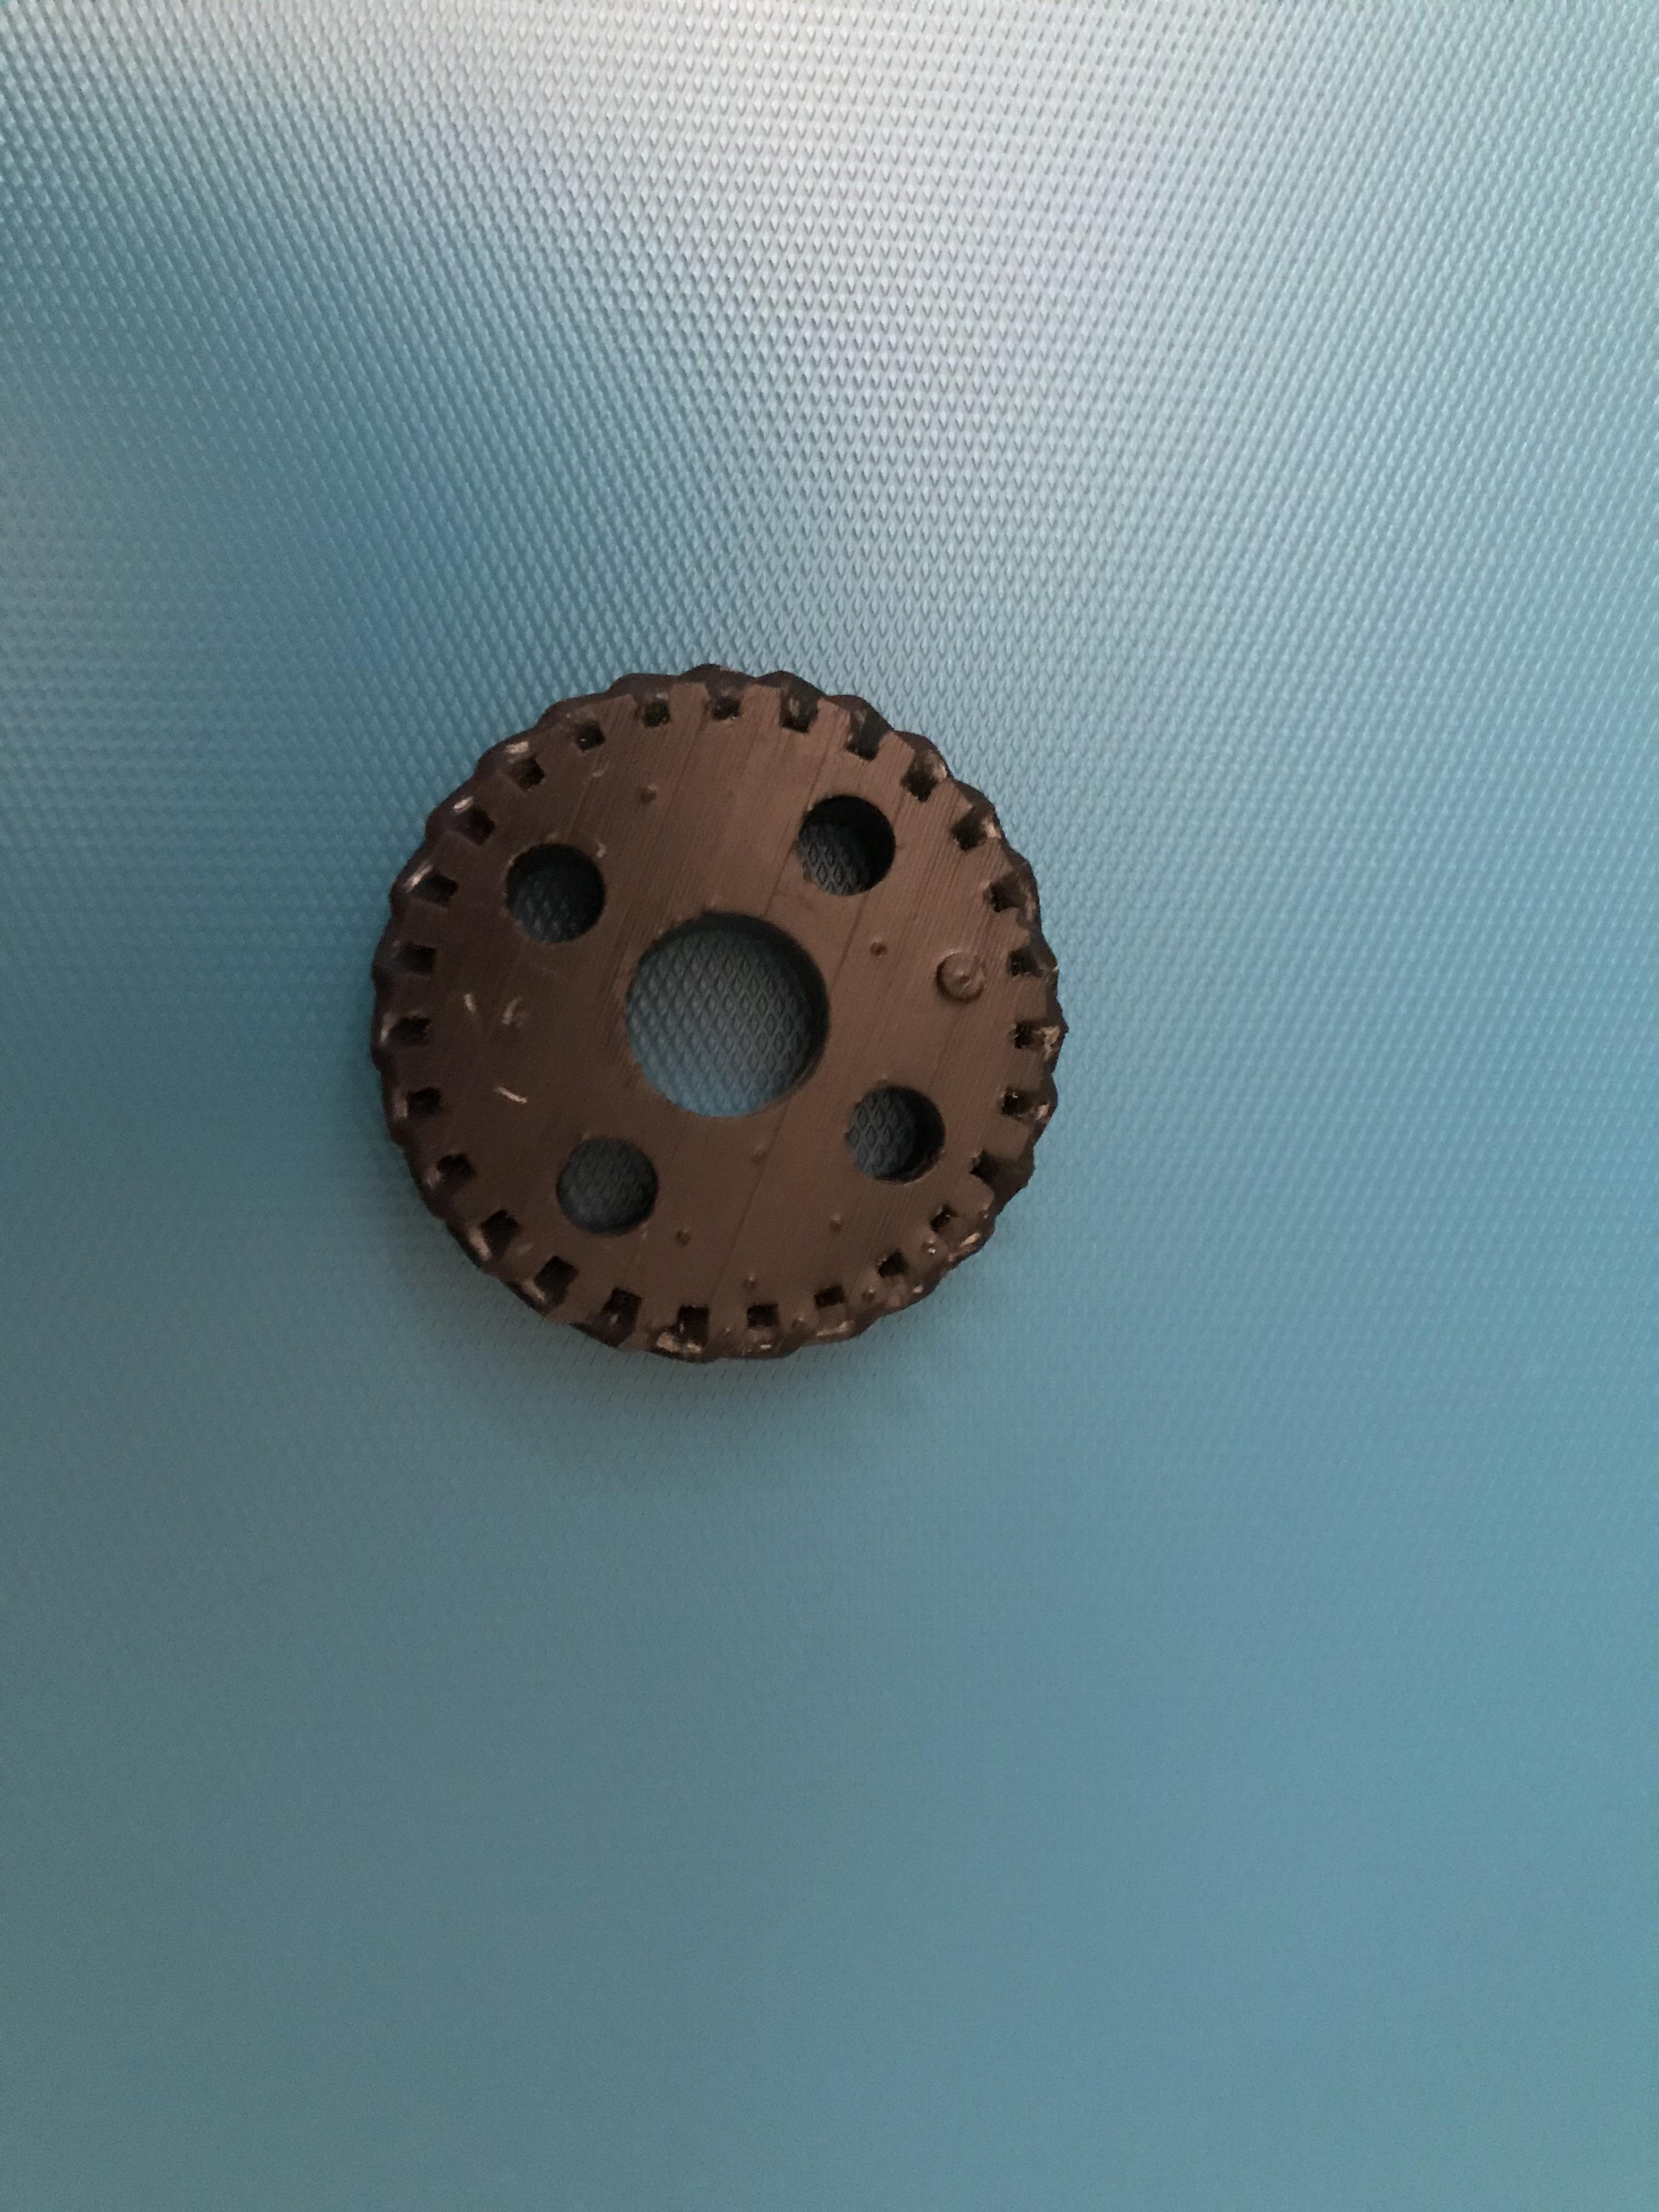Wheel: (369, 655, 1082, 1378)
